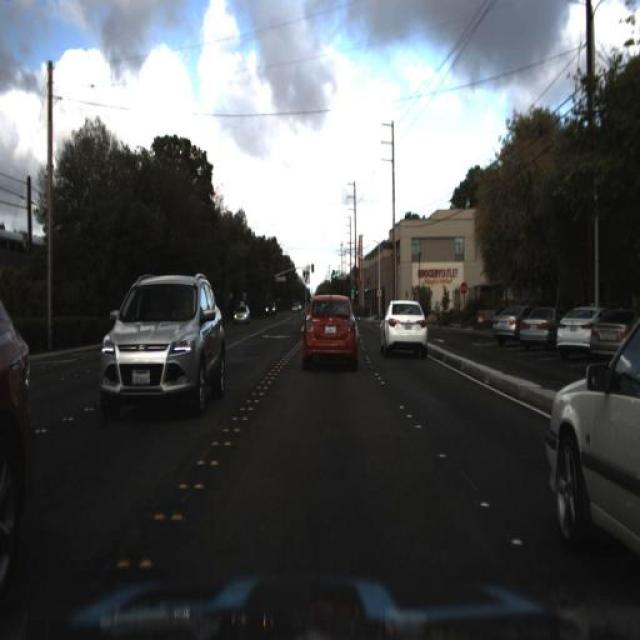car: (539, 292, 639, 579), (90, 270, 230, 422), (1, 280, 37, 595), (290, 281, 364, 374), (373, 286, 441, 360), (518, 308, 556, 349), (488, 306, 518, 346), (226, 298, 252, 332), (260, 293, 278, 322)
